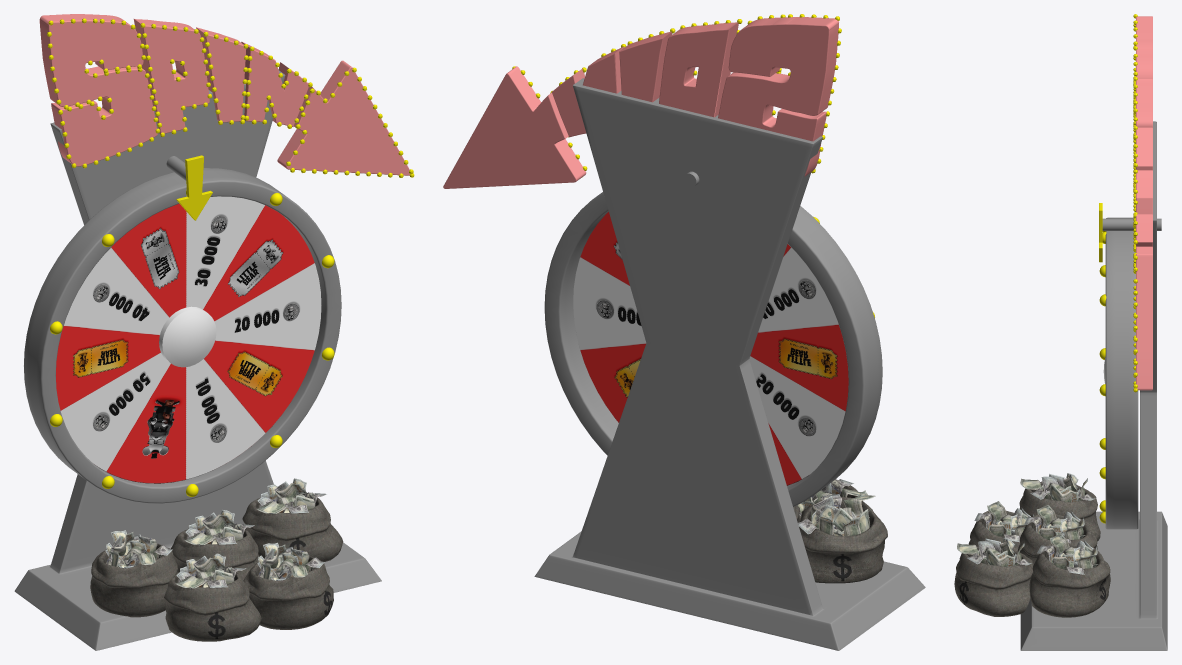
Rendered from wheel.glb.
3 renders of one model, left to right at view 1: azimuth 30°, elevation 25°; view 2: azimuth 150°, elevation 25°; view 3: azimuth 270°, elevation 25°, orthographic. The views are drawn at different scales.
Visible parts, largest first — view 1: Disc, Stoika, Sphere_4, Oil_Tank_1; view 2: Stoika, Disc, Sphere_4; view 3: Stoika, Sphere_4, Disc.
Part boxes in pixels (x1=…): Disc: x1=24, y1=168, x2=341, y2=503; Stoika: x1=14, y1=14, x2=414, y2=650; Sphere_4: x1=90, y1=478, x2=343, y2=641; Oil_Tank_1: x1=159, y1=306, x2=216, y2=367; Stoika: x1=443, y1=14, x2=925, y2=650; Disc: x1=544, y1=192, x2=882, y2=506; Sphere_4: x1=793, y1=479, x2=887, y2=583; Stoika: x1=1020, y1=14, x2=1167, y2=650; Sphere_4: x1=954, y1=473, x2=1110, y2=617; Disc: x1=1099, y1=217, x2=1138, y2=529.
Bounding box in the file's own units: 2.59 × 3.68 × 1.37.
Materials: 6 (2 with a texture image).
